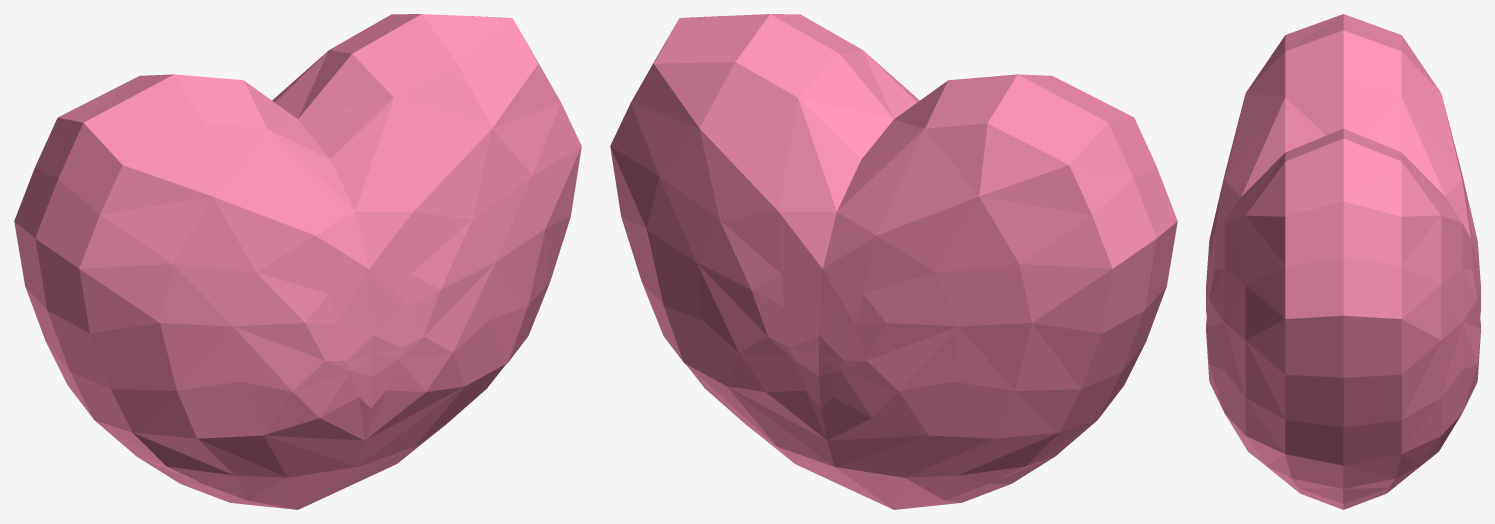
Rendered from HEART.glb.
3 views of the same model, side by side, from view 1: azimuth 30°, elevation 25°; view 2: azimuth 150°, elevation 25°; view 3: azimuth 270°, elevation 25° (orthographic). The views are drawn at different scales.
Visible parts, largest first — view 1: Object_2.002; view 2: Object_2.002; view 3: Object_2.002.
Part boxes in pixels (box(x1,y1,x2,y2)): Object_2.002: box(14, 14, 581, 509); Object_2.002: box(610, 14, 1177, 509); Object_2.002: box(1206, 14, 1480, 509).
Bounding box in the file's own units: 4.5 × 3.81 × 2.28.
